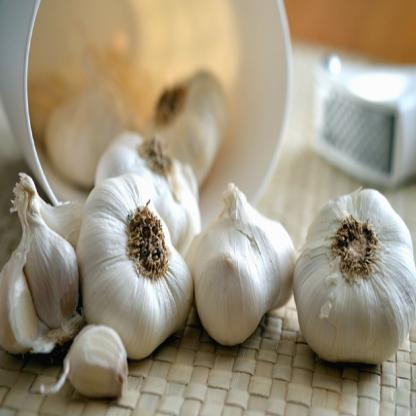garlic: (299, 185, 415, 371), (78, 177, 190, 346), (190, 189, 292, 339), (0, 187, 90, 353), (145, 87, 228, 183), (59, 324, 131, 396)
